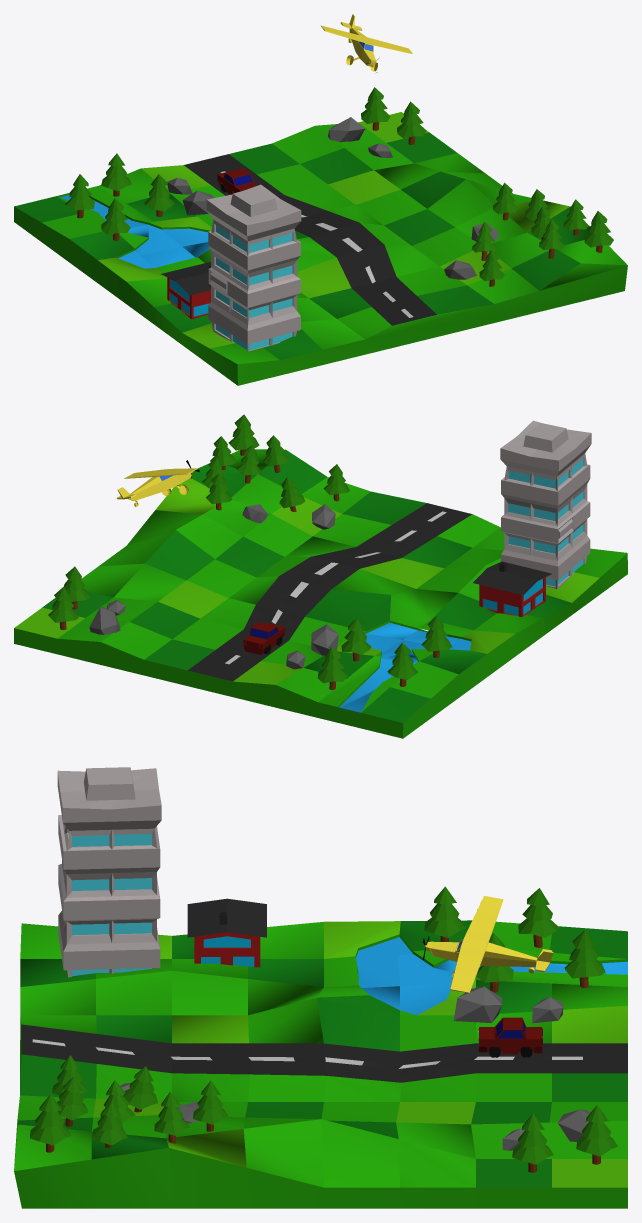
File: low_poly_landscape.glb
The picture shows the model from 3 angles, top to bottom: view 1: azimuth 30°, elevation 25°; view 2: azimuth 150°, elevation 25°; view 3: azimuth 270°, elevation 25°; orthographic projection. The views are drawn at different scales.
Parts seen in each view (by area): view 1: Cube_Material.008_0, Cube.002_Material.011_0, Cylinder.002_Material.004_0, Cube.001_Material.003_0, Icosphere.005_Material.006_0, Cube.002_Material.012_0, Cube.010_Material.023_0, Cube.003_Material.015_0, Cube.003_Material.013_0, Cylinder.002_Material.005_0, Cube.004_Material.022_0; view 2: Cube_Material.008_0, Cube.002_Material.011_0, Cube.001_Material.003_0, Cylinder.002_Material.004_0, Icosphere.005_Material.006_0, Cube.002_Material.012_0, Cube.003_Material.015_0, Cube.010_Material.023_0, Cube.003_Material.013_0, Cube.004_Material.022_0, Cube.001_Material.010_0, Cylinder.002_Material.005_0 (+1 smaller); view 3: Cube_Material.008_0, Cube.002_Material.011_0, Cube.001_Material.003_0, Cylinder.002_Material.004_0, Cube.010_Material.023_0, Icosphere.005_Material.006_0, Cube.002_Material.012_0, Cube.003_Material.015_0, Cube.004_Material.022_0, Cube.003_Material.013_0, Cube.001_Material.010_0, Cube.003_Material.014_0 (+1 smaller).
Boxes of the visible parts, x1,y1,x2,y2 form: Cube_Material.008_0: (14,112,627,385); Cube.002_Material.011_0: (206,184,301,351); Cylinder.002_Material.004_0: (65,87,613,281); Cube.001_Material.003_0: (184,154,436,325); Icosphere.005_Material.006_0: (167,117,498,279); Cube.002_Material.012_0: (216,225,292,350); Cube.010_Material.023_0: (321,14,412,71); Cube.003_Material.015_0: (161,262,210,295); Cube.003_Material.013_0: (167,277,210,319); Cylinder.002_Material.005_0: (77,122,602,286); Cube.004_Material.022_0: (217,168,257,194); Cube_Material.008_0: (14,449,627,738); Cube.002_Material.011_0: (500,420,591,589); Cube.001_Material.003_0: (188,503,472,681); Cylinder.002_Material.004_0: (48,414,452,683); Icosphere.005_Material.006_0: (89,504,338,669); Cube.002_Material.012_0: (508,458,583,586); Cube.003_Material.015_0: (473,561,552,595); Cube.010_Material.023_0: (117,468,197,506); Cube.003_Material.013_0: (479,577,545,616); Cube.004_Material.022_0: (243,622,285,654); Cube.001_Material.010_0: (225,511,446,664); Cylinder.002_Material.005_0: (59,449,439,689); Cube_Material.008_0: (14,920,627,1208); Cube.002_Material.011_0: (57,767,161,977); Cube.001_Material.003_0: (21,1024,627,1082); Cylinder.002_Material.004_0: (30,886,617,1164); Cube.010_Material.023_0: (425,896,553,992); Icosphere.005_Material.006_0: (120,986,590,1150); Cube.002_Material.012_0: (68,830,151,976); Cube.003_Material.015_0: (187,898,266,937); Cube.004_Material.022_0: (478,1017,542,1054); Cube.003_Material.013_0: (194,932,260,967); Cube.001_Material.010_0: (32,1039,582,1068); Cube.003_Material.014_0: (201,936,254,966).
Bounding box in the file's own units: 2.21 × 0.9128 × 2.24.
